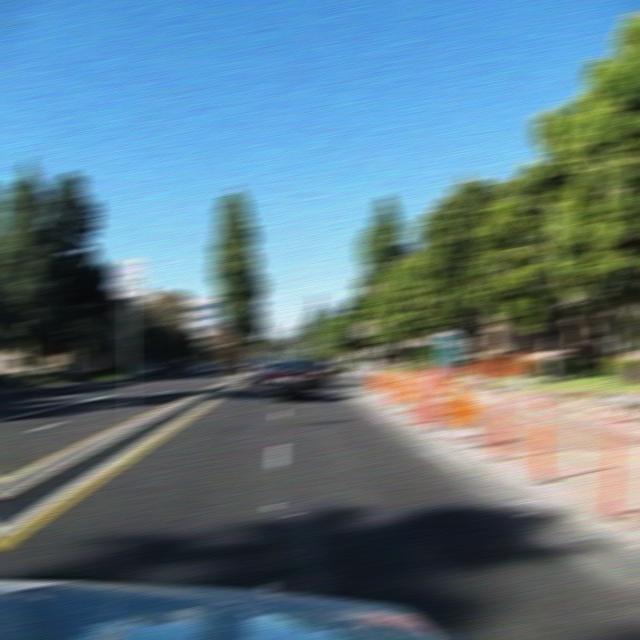speedLimit35: (114, 256, 144, 297)
